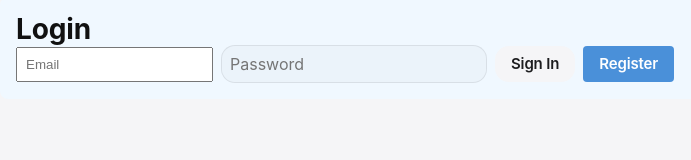
Test case: AuthBar › shows inline error when register fails and does not log in
In the field with placeholder "Email": (114, 64) [16,47,213,82], type "dup@x.com"
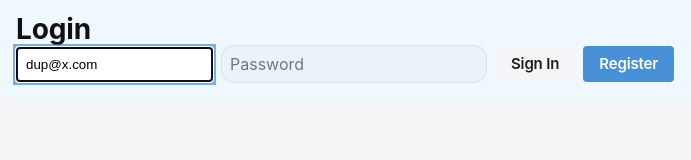
In the password field with placeholder "Password": (354, 64) [221,45,487,83], type "correct-horse"
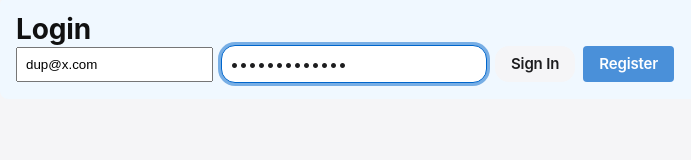
Click the button "Register": (629, 64) [583,46,674,82]
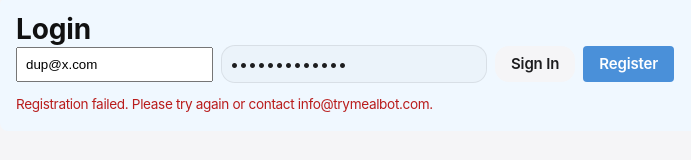
Expected: the message shows "Registration failed", [16,96,433,112]
